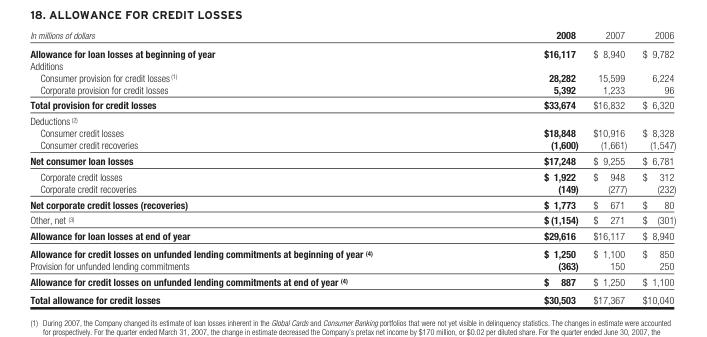table: (29, 28, 675, 305)
table column: (29, 28, 457, 305), (457, 28, 585, 305), (585, 28, 634, 305), (634, 28, 675, 305)
table column header: (29, 28, 675, 43)
table projected row header: (29, 112, 675, 126), (29, 59, 675, 70)
table row: (29, 227, 675, 244), (29, 273, 675, 290), (29, 43, 675, 59), (29, 96, 675, 112), (29, 152, 675, 168), (29, 195, 675, 211), (29, 211, 675, 227), (29, 28, 675, 43), (29, 244, 675, 259), (29, 290, 675, 305), (29, 82, 675, 96), (29, 112, 675, 126), (29, 138, 675, 152), (29, 168, 675, 182), (29, 259, 675, 273), (29, 182, 675, 195), (29, 70, 675, 82), (29, 126, 675, 138), (29, 59, 675, 70)
